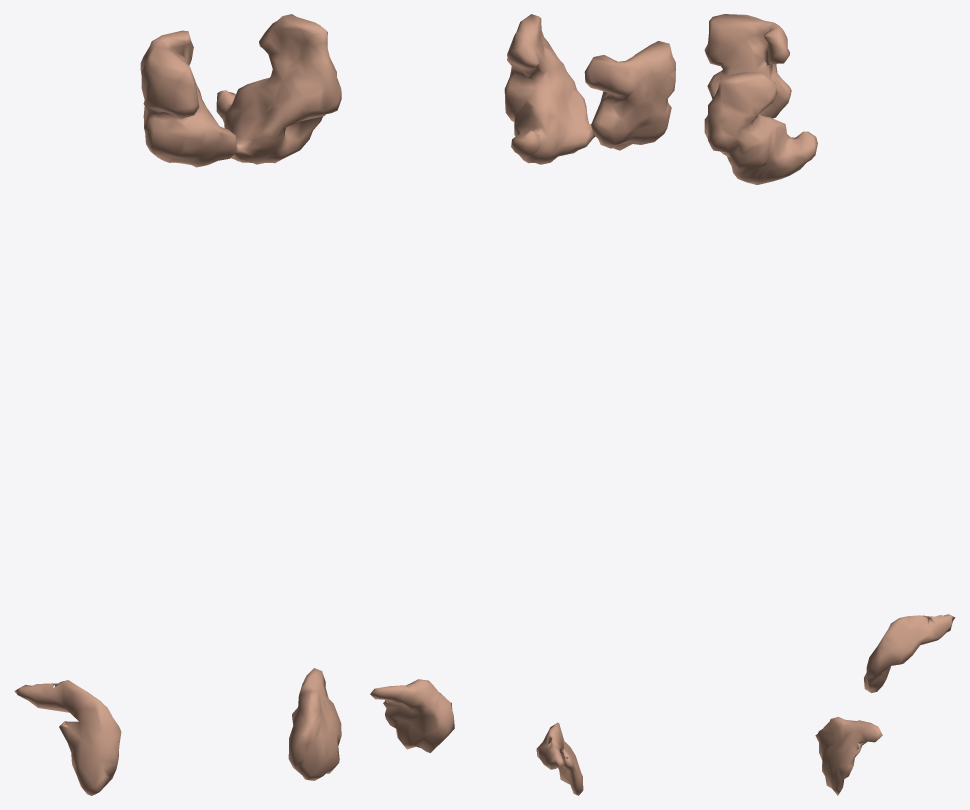
The model's file is tsd_s0327_older_adult_male.endocrine.LOD2.glb.
3 views of the same model, side by side, from view 1: azimuth 30°, elevation 25°; view 2: azimuth 150°, elevation 25°; view 3: azimuth 270°, elevation 25° (orthographic). The views are drawn at different scales.
Visible parts, largest first — view 1: TSD_S0327.OLDER_ADULT.MALE.ENDOCRINE.THYROID_GLAND, TSD_S0327.OLDER_ADULT.MALE.ENDOCRINE.ADRENAL_GLAND.R, TSD_S0327.OLDER_ADULT.MALE.ENDOCRINE.ADRENAL_GLAND.L; view 2: TSD_S0327.OLDER_ADULT.MALE.ENDOCRINE.THYROID_GLAND, TSD_S0327.OLDER_ADULT.MALE.ENDOCRINE.ADRENAL_GLAND.L, TSD_S0327.OLDER_ADULT.MALE.ENDOCRINE.ADRENAL_GLAND.R; view 3: TSD_S0327.OLDER_ADULT.MALE.ENDOCRINE.THYROID_GLAND, TSD_S0327.OLDER_ADULT.MALE.ENDOCRINE.ADRENAL_GLAND.R, TSD_S0327.OLDER_ADULT.MALE.ENDOCRINE.ADRENAL_GLAND.L.
Boxes of the visible parts, x1=… form: TSD_S0327.OLDER_ADULT.MALE.ENDOCRINE.THYROID_GLAND: x1=140, y1=14, x2=341, y2=167; TSD_S0327.OLDER_ADULT.MALE.ENDOCRINE.ADRENAL_GLAND.R: x1=14, y1=680, x2=121, y2=795; TSD_S0327.OLDER_ADULT.MALE.ENDOCRINE.ADRENAL_GLAND.L: x1=288, y1=668, x2=341, y2=780; TSD_S0327.OLDER_ADULT.MALE.ENDOCRINE.THYROID_GLAND: x1=504, y1=14, x2=675, y2=164; TSD_S0327.OLDER_ADULT.MALE.ENDOCRINE.ADRENAL_GLAND.L: x1=370, y1=679, x2=454, y2=752; TSD_S0327.OLDER_ADULT.MALE.ENDOCRINE.ADRENAL_GLAND.R: x1=536, y1=722, x2=583, y2=795; TSD_S0327.OLDER_ADULT.MALE.ENDOCRINE.THYROID_GLAND: x1=704, y1=14, x2=817, y2=184; TSD_S0327.OLDER_ADULT.MALE.ENDOCRINE.ADRENAL_GLAND.R: x1=864, y1=614, x2=955, y2=692; TSD_S0327.OLDER_ADULT.MALE.ENDOCRINE.ADRENAL_GLAND.L: x1=815, y1=717, x2=882, y2=795.
Size of the model in its own units: 0.1021 by 0.3004 by 0.0996.
